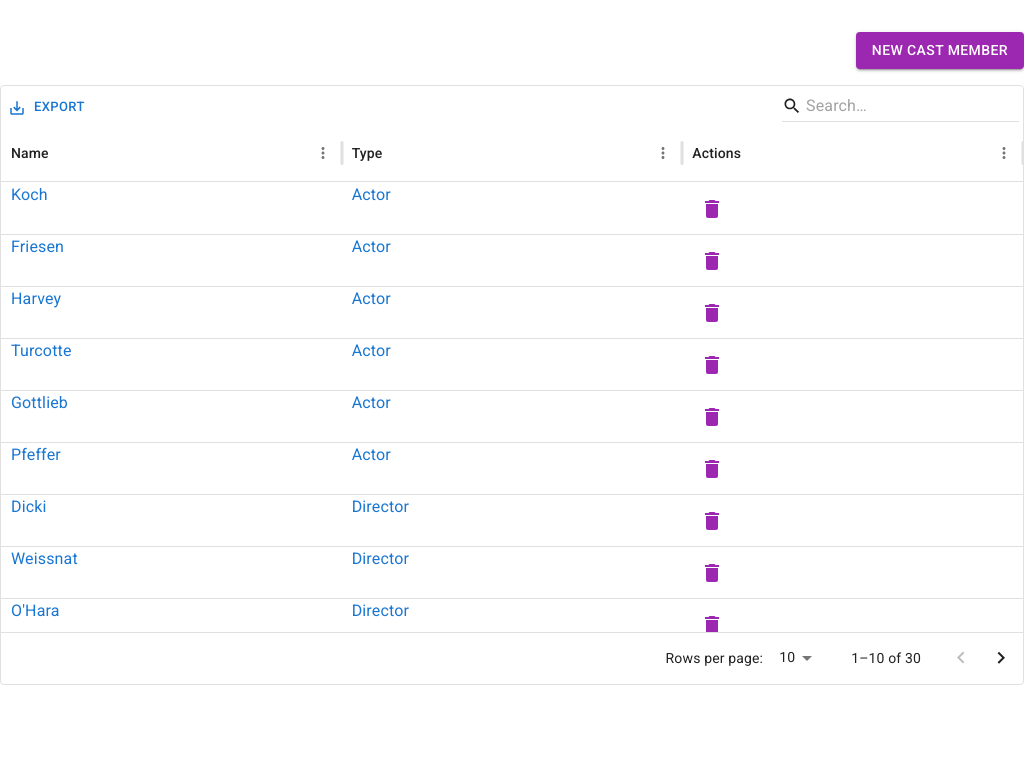
Test: Test ListCastMember page › should handle delete cast member error
The image size is (1036, 768).
Expected: the text "Koch" is shown, [11,184,48,204]
Click the button with test id "delete-cast-member-button" in the row of "Koch" at (712, 209), box [692,189,732,229]
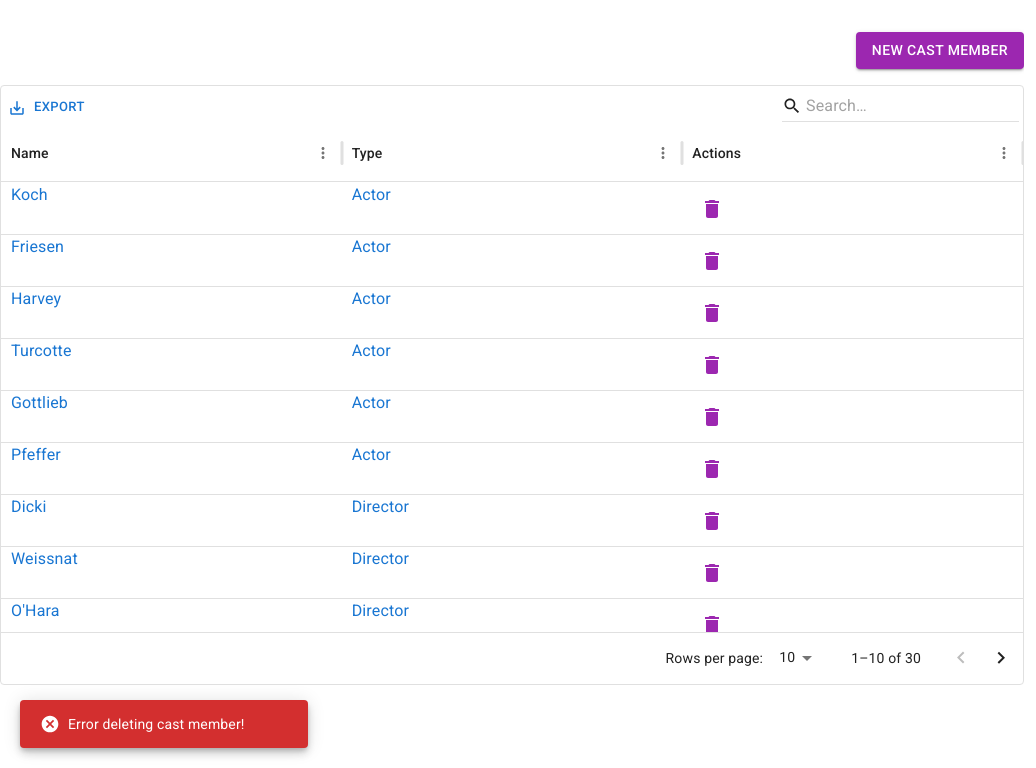
Now the text "Error deleting cast member!" is shown, box [40,714,245,734]
